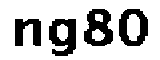0: (117, 3, 148, 50)
8: (82, 5, 114, 51)
g: (46, 17, 79, 60)
n: (11, 17, 46, 50)
